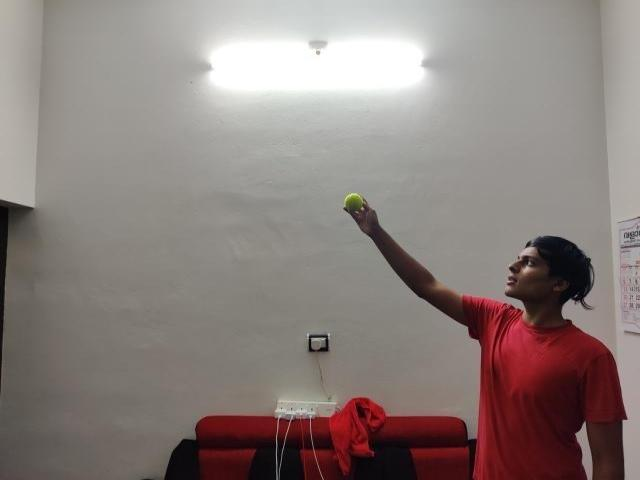tennis-ball: (343, 192, 364, 212)
